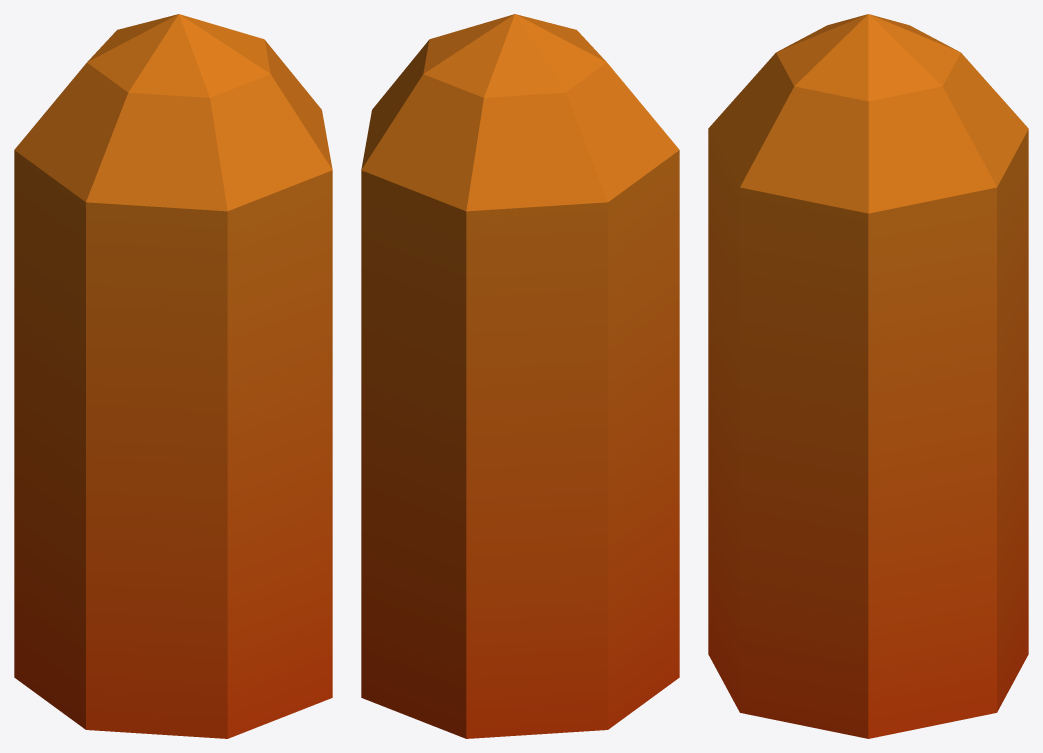
Rendered from Bullet.fbx.
The picture shows the model from 3 angles, left to right: view 1: azimuth 30°, elevation 25°; view 2: azimuth 150°, elevation 25°; view 3: azimuth 270°, elevation 25°; orthographic projection.
Parts seen in each view (by area): view 1: Bullet; view 2: Bullet; view 3: Bullet.
Part boxes in pixels (x1=…): Bullet: x1=14, y1=14, x2=332, y2=738; Bullet: x1=361, y1=14, x2=679, y2=738; Bullet: x1=708, y1=14, x2=1028, y2=738.
Bounding box in the file's own units: 20.53 × 47.51 × 21.06.
